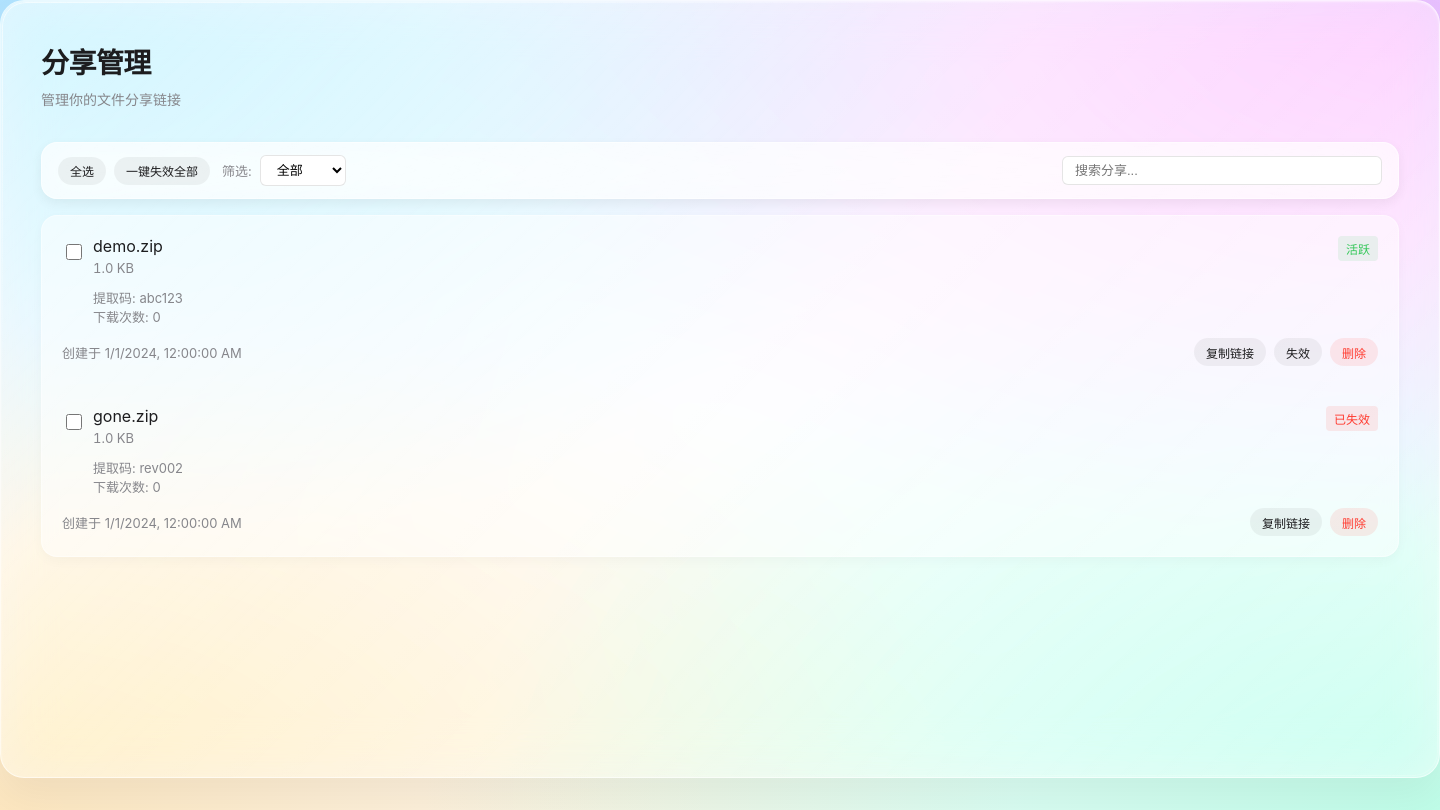
Test: SharesPage › filter status revoked via the select filters records
This screenshot has width=1440, height=810.
Expected: the text "demo.zip" is shown, [93,236,163,256]
Select "已失效" in the dropdown named "分享状态筛选". click: (303, 170)
box: [260,155,346,186]
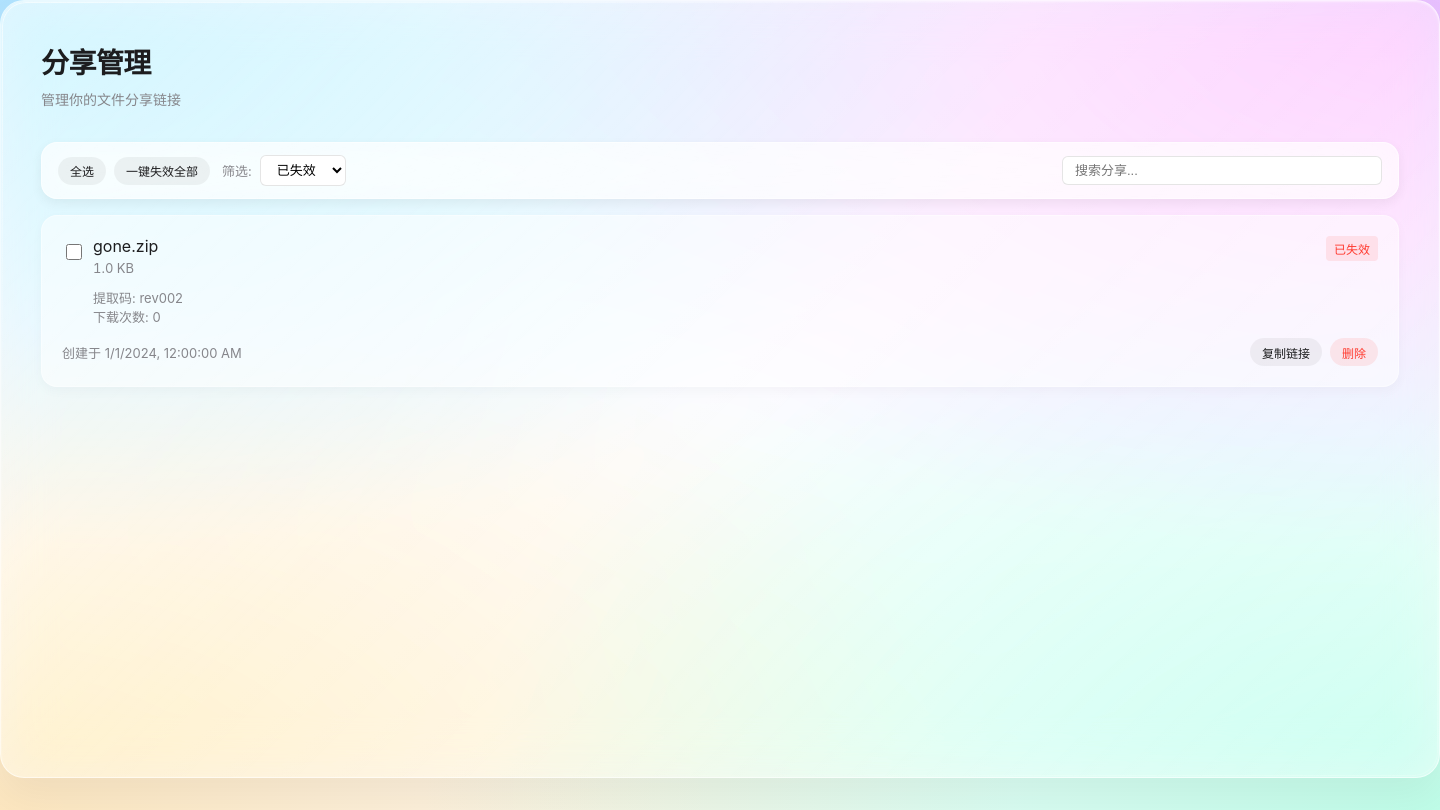
Expected: the text "gone.zip" is shown, [93,236,158,256]
Expected: the button "demo.zip" is gone
